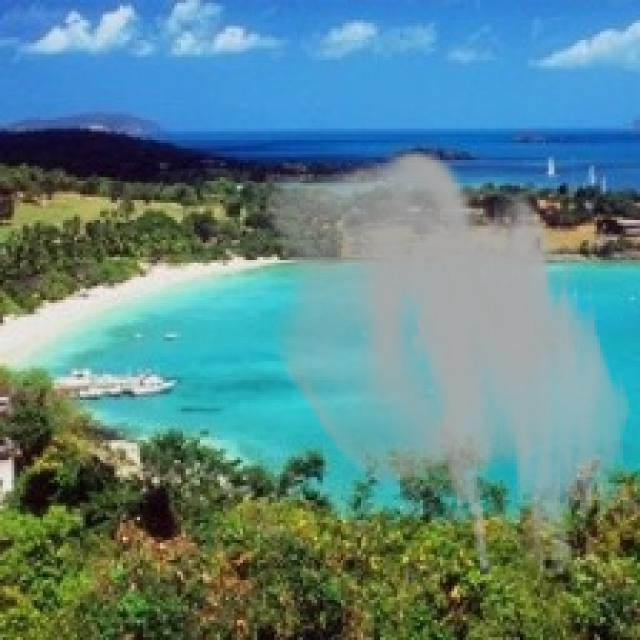Smoke: (262, 152, 634, 574)
